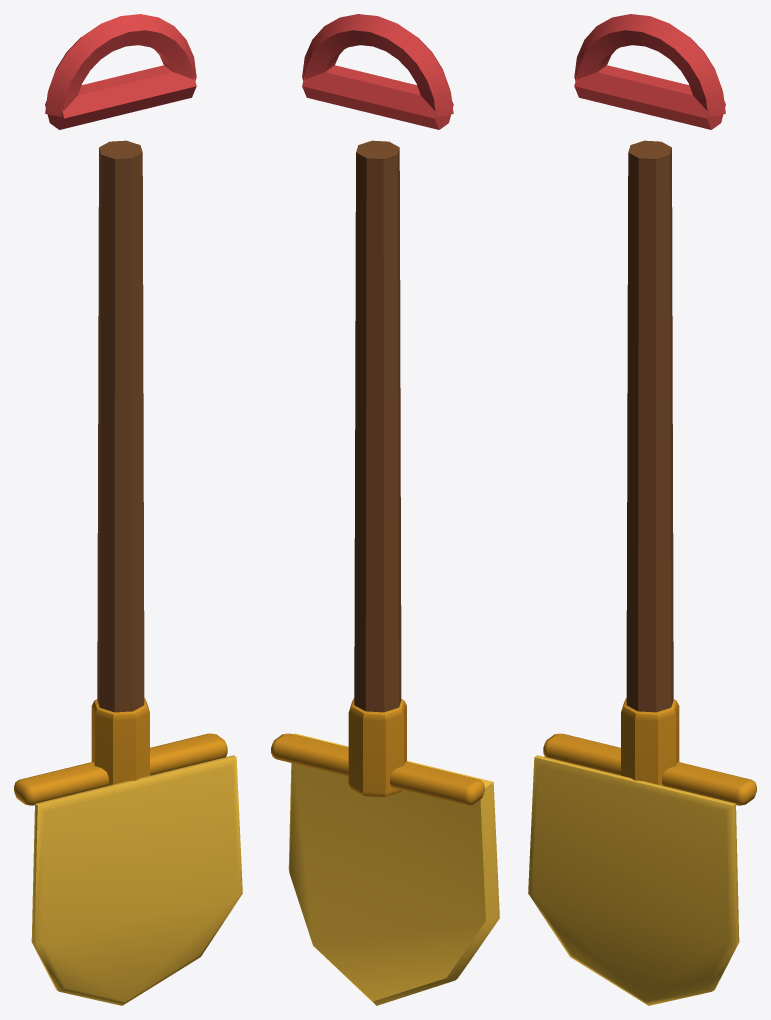
Rendered from GoldShovel.fbx.
3 views of the same model, side by side, from view 1: azimuth 30°, elevation 25°; view 2: azimuth 150°, elevation 25°; view 3: azimuth 330°, elevation 25° (orthographic).
Visible parts, largest first — view 1: GoldShovel; view 2: GoldShovel; view 3: GoldShovel.
Part boxes in pixels (x1,y1,x2,y2): GoldShovel: (14,14,242,1005); GoldShovel: (271,14,499,1005); GoldShovel: (528,14,756,1005).
Bounding box in the file's own units: 0.88 × 3.99 × 0.2516.
1 material, 1 textured.
